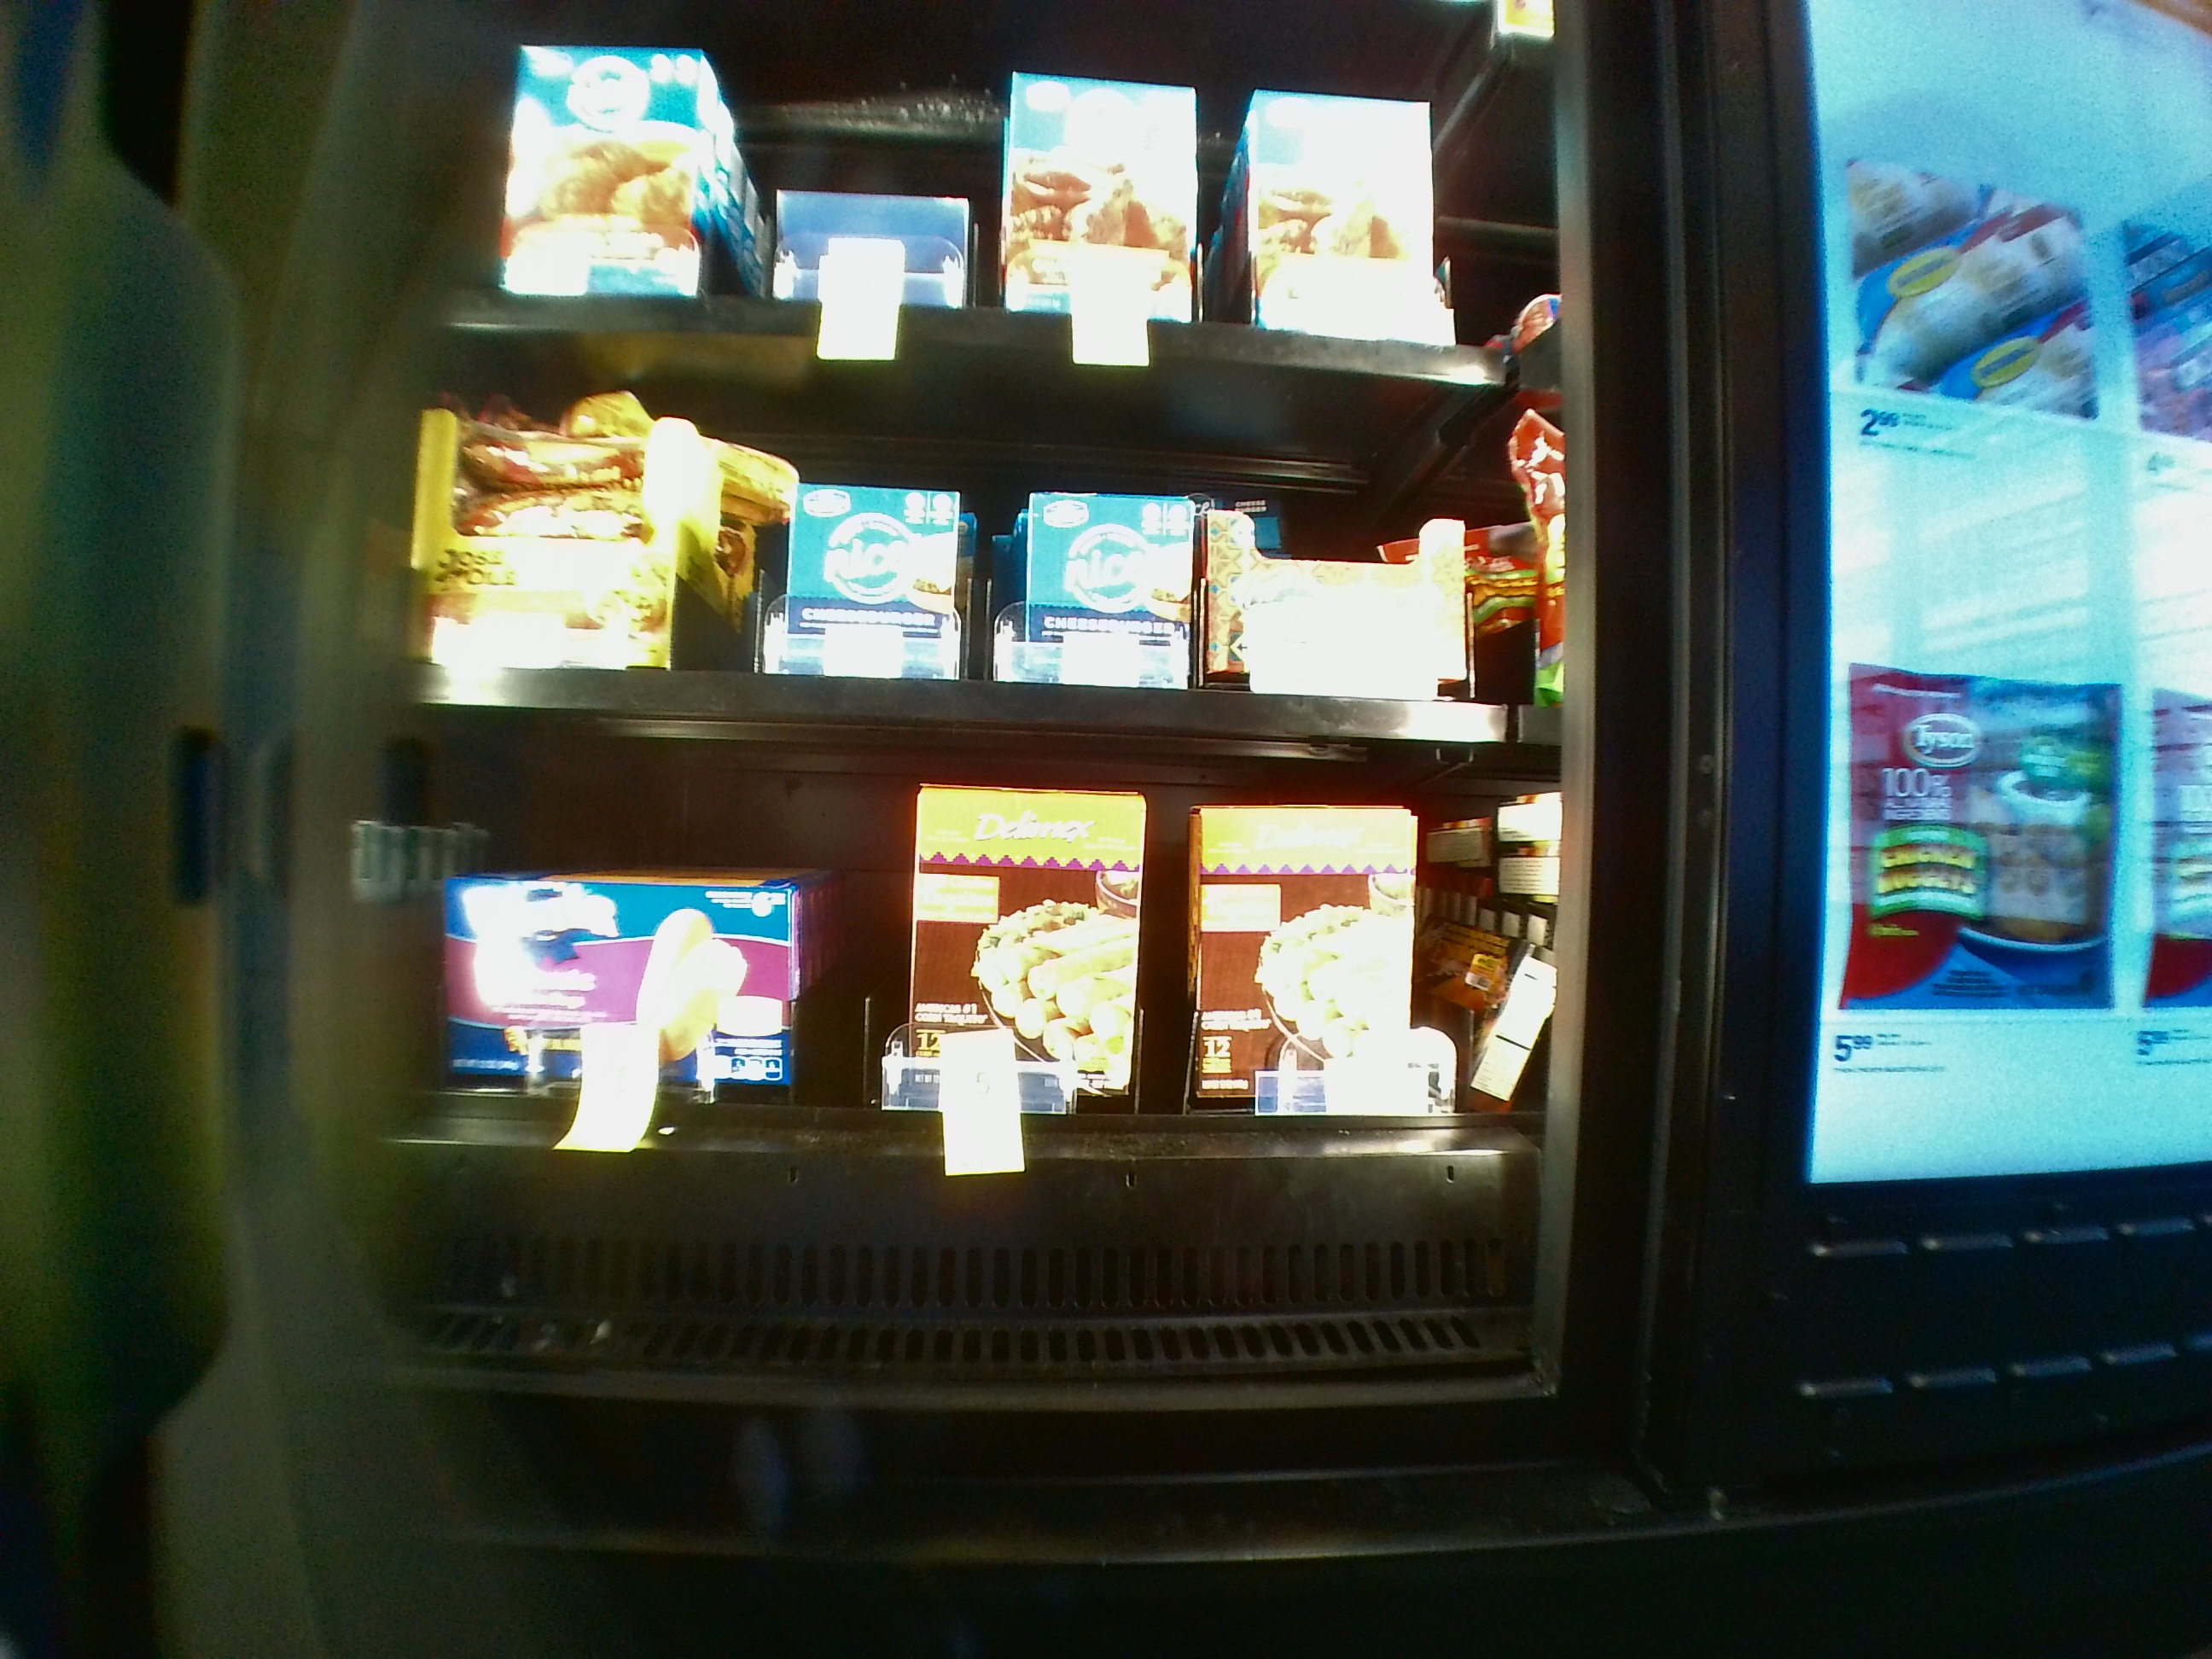shelf: (383, 756, 1545, 1385), (392, 385, 1548, 748)
